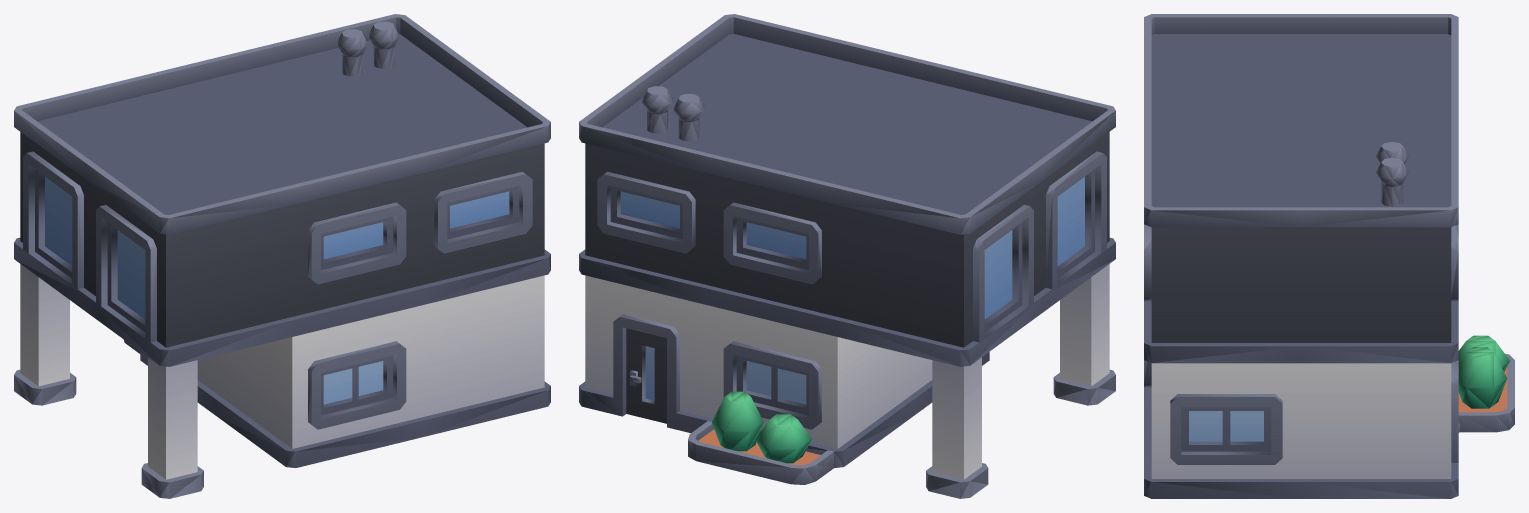
File: ks_house_p.fbx
The picture shows the model from 3 angles, left to right: view 1: azimuth 30°, elevation 25°; view 2: azimuth 150°, elevation 25°; view 3: azimuth 270°, elevation 25°; orthographic projection. The views are drawn at different scales.
Visible parts, largest first — view 1: ks_house_p_LOD0; view 2: ks_house_p_LOD0; view 3: ks_house_p_LOD0.
Part boxes in pixels (left/top/right/bottom): ks_house_p_LOD0: left=14, top=14, right=550, bottom=498; ks_house_p_LOD0: left=579, top=14, right=1115, bottom=498; ks_house_p_LOD0: left=1144, top=14, right=1514, bottom=498.
Size of what is drawn, in the model's own units: 10.54 by 7.8 by 8.42.
